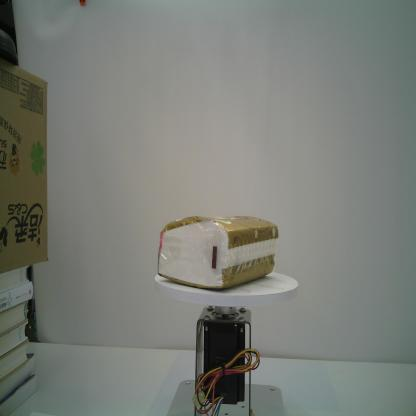Tissue: (156, 213, 279, 290)
